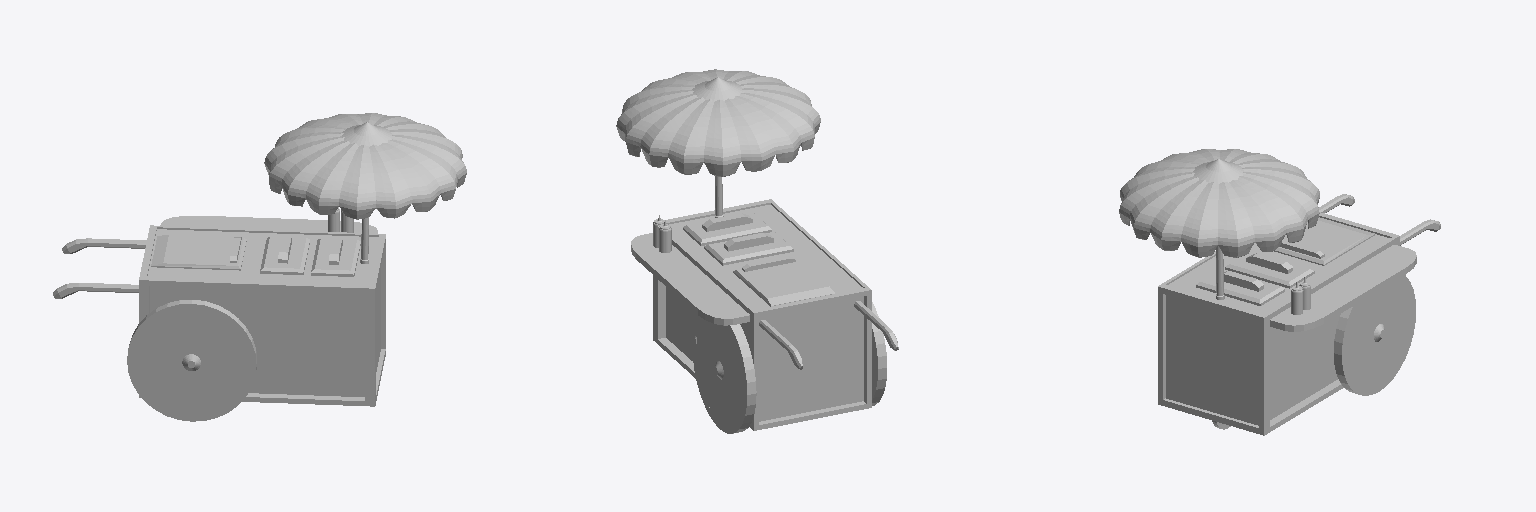
Rendered from Hot_Dog_Stand.obj.
The picture shows the model from 3 angles: view 1: azimuth 30°, elevation 25°; view 2: azimuth 150°, elevation 25°; view 3: azimuth 270°, elevation 25°; orthographic projection.
Visible parts, largest first — view 1: Cylinder.009; view 2: Cylinder.009; view 3: Cylinder.009.
Part boxes in pixels (x1,y1,x2,y2): Cylinder.009: (53, 113, 466, 421); Cylinder.009: (616, 69, 898, 433); Cylinder.009: (1119, 149, 1440, 435).
Size of the model in its own units: 9.07 by 7.11 by 7.59.